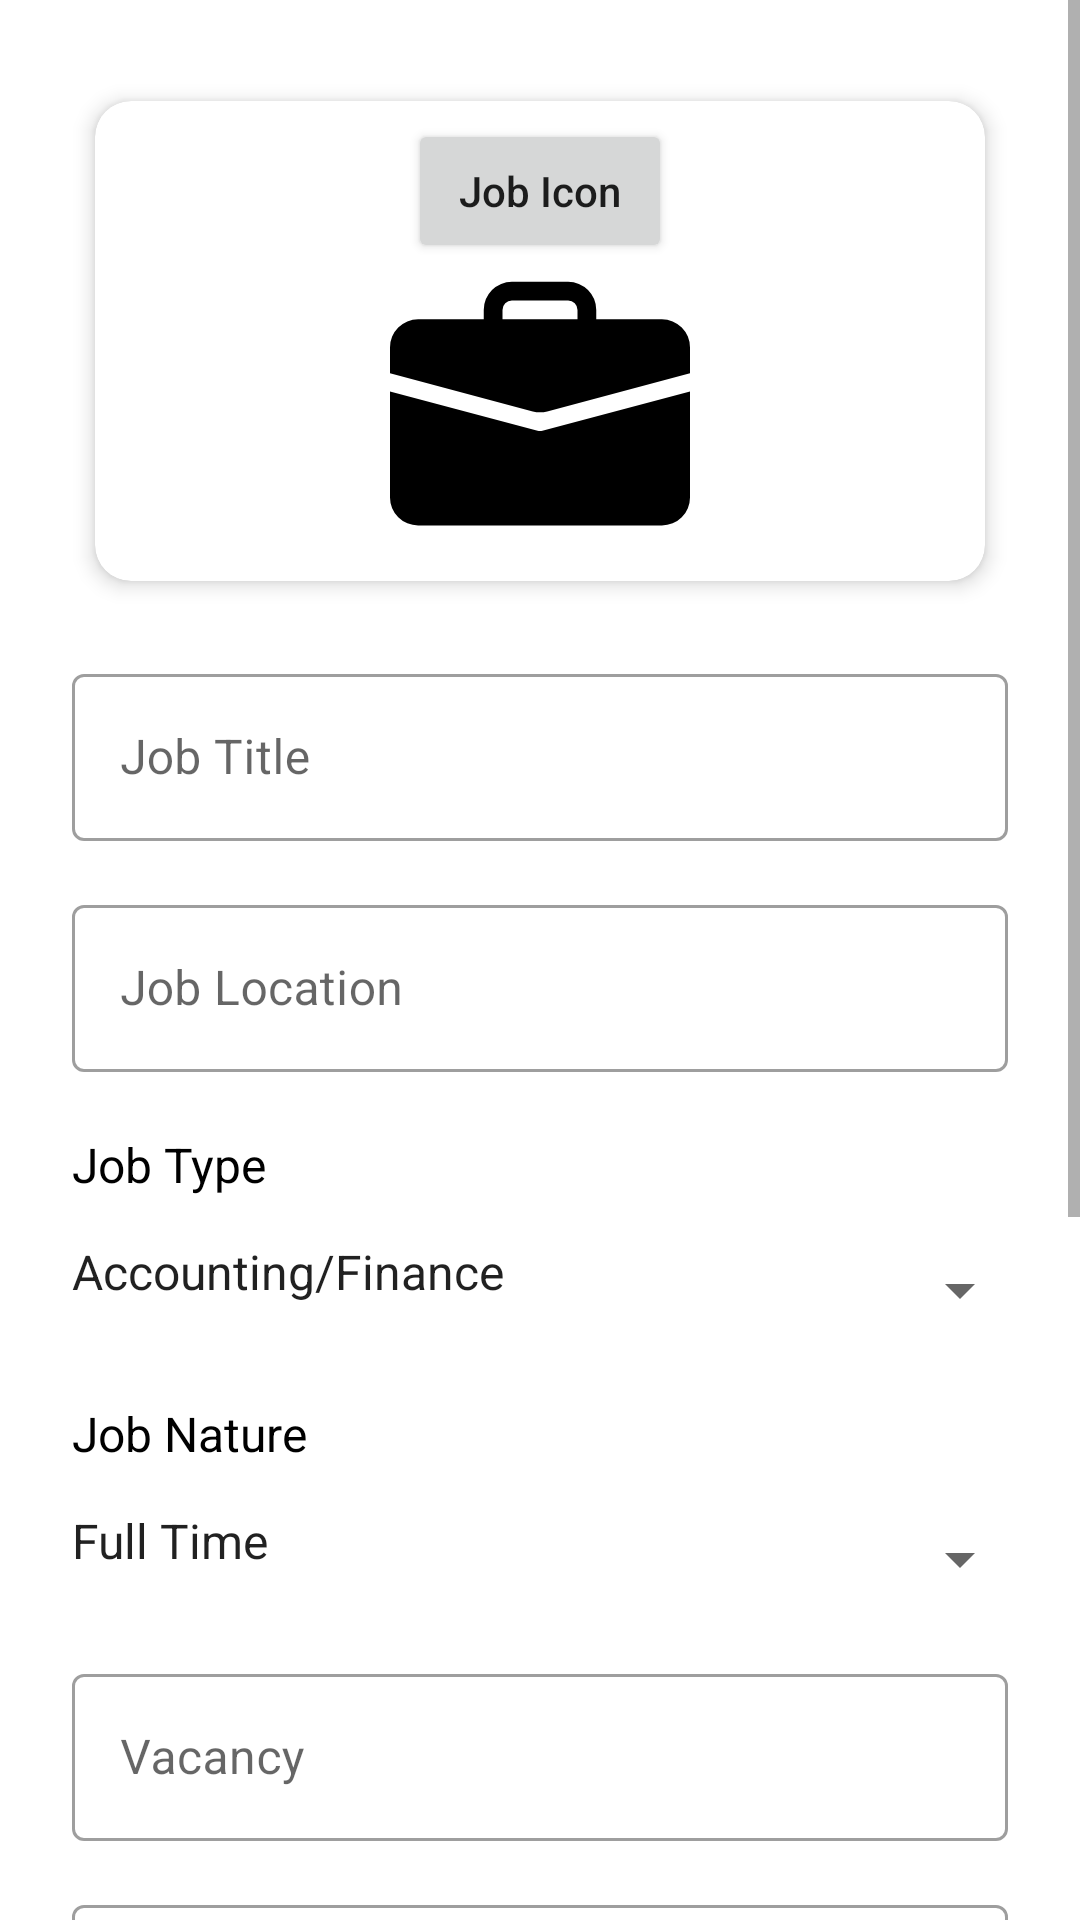

Icons on this 1080px×1920px Android screen, each with the point to tap as point (x, y):
briefcase: point (540, 403)
